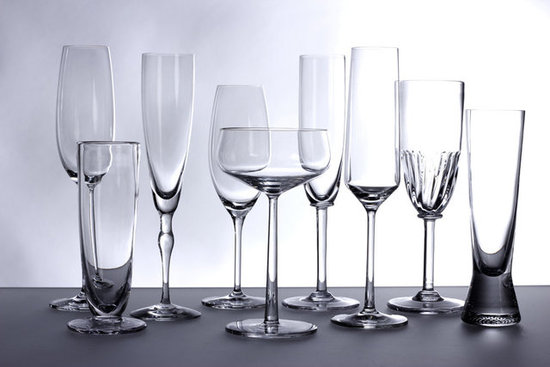Nonrec_Glass: (214, 114, 327, 347), (41, 38, 134, 317), (280, 29, 370, 317), (387, 68, 480, 322), (340, 39, 410, 335), (133, 41, 204, 326), (62, 137, 151, 339), (462, 102, 534, 331), (207, 74, 273, 318)
